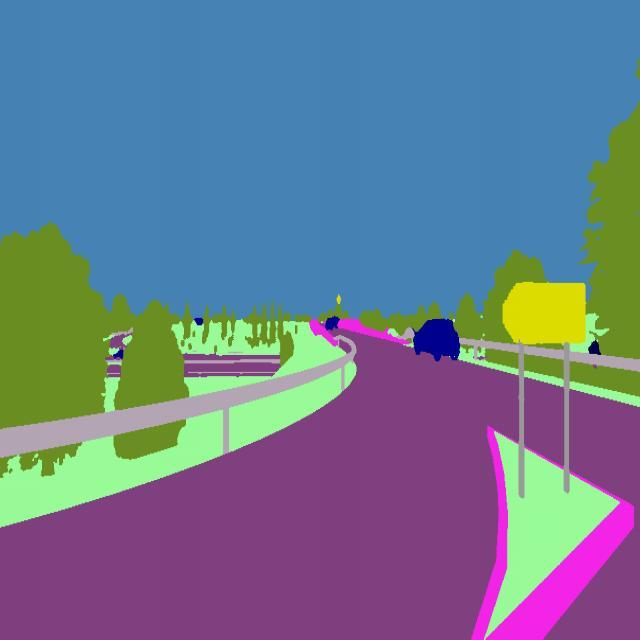safe: (408, 314, 466, 364), (322, 314, 338, 336)
